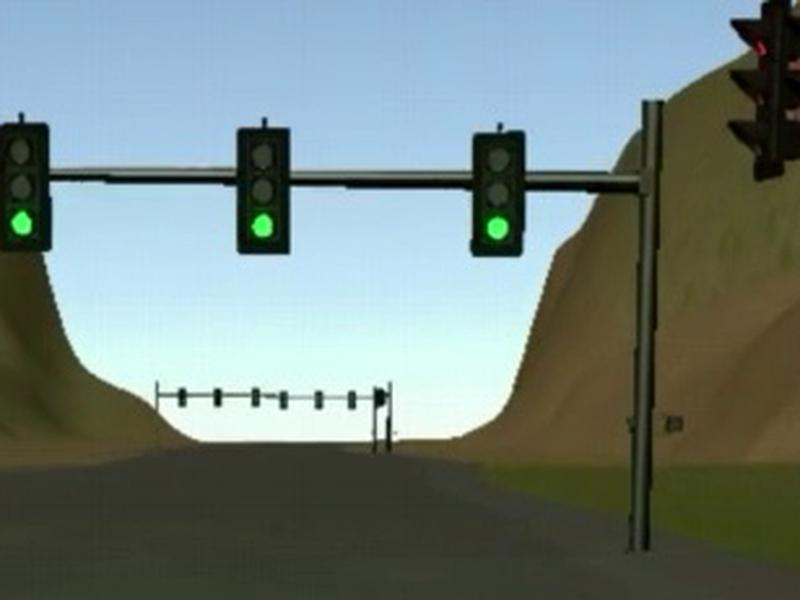Green: (469, 127, 526, 257), (236, 126, 291, 254), (1, 122, 50, 251)
